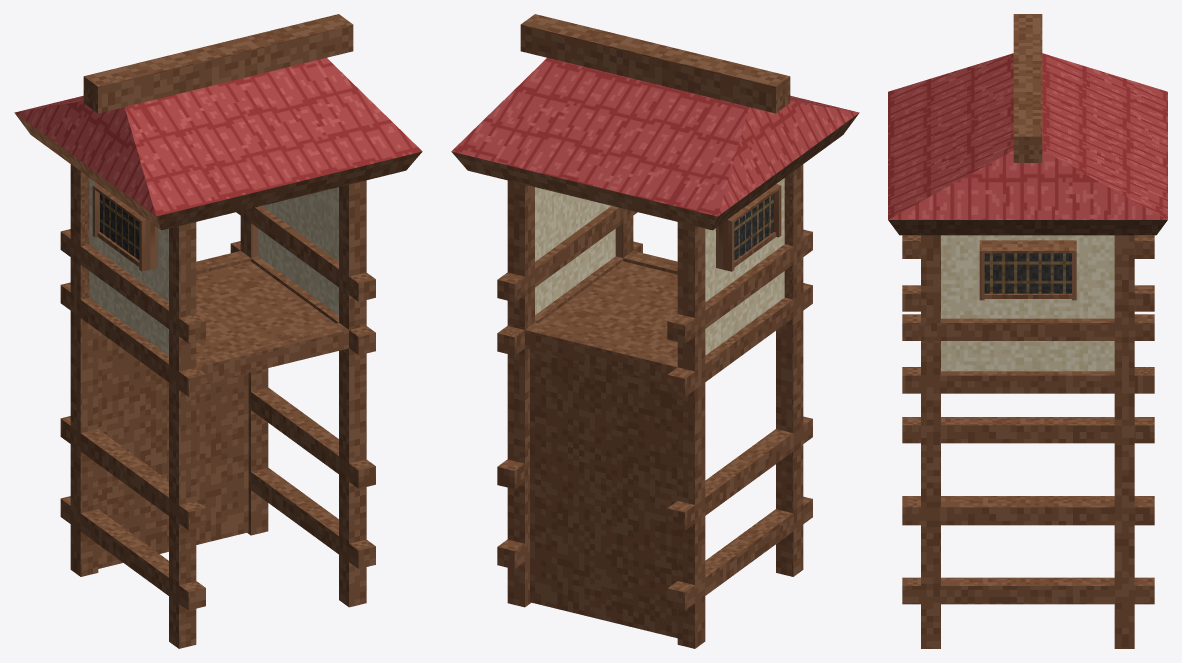
The model's file is TorreJapon.fbx.
3 views of the same model, side by side, from view 1: azimuth 30°, elevation 25°; view 2: azimuth 150°, elevation 25°; view 3: azimuth 270°, elevation 25° (orthographic).
Parts seen in each view (by area): view 1: Torre; view 2: Torre; view 3: Torre.
Part boxes in pixels (x1,y1,x2,y2): Torre: (14, 14, 422, 648); Torre: (451, 14, 859, 648); Torre: (888, 14, 1167, 648).
Size of the model in its own units: 2.35 by 2.17 by 4.53.
Materials: 1 (1 with a texture image).
